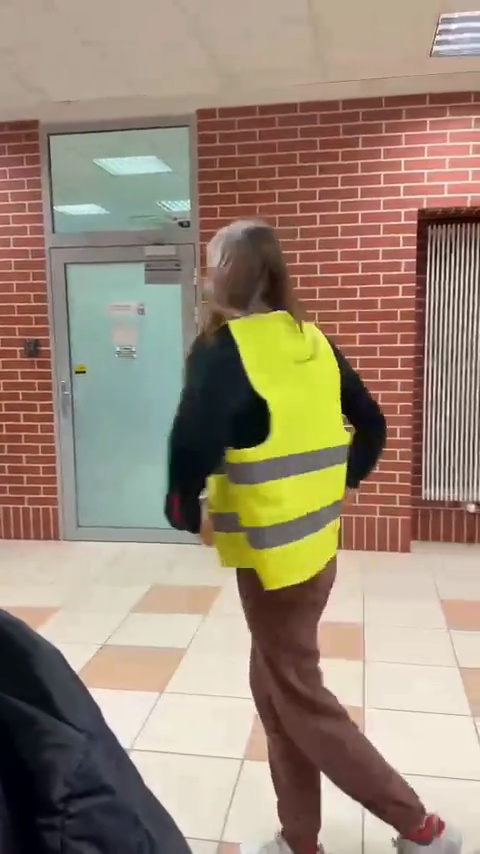vest: (163, 214, 451, 851)
